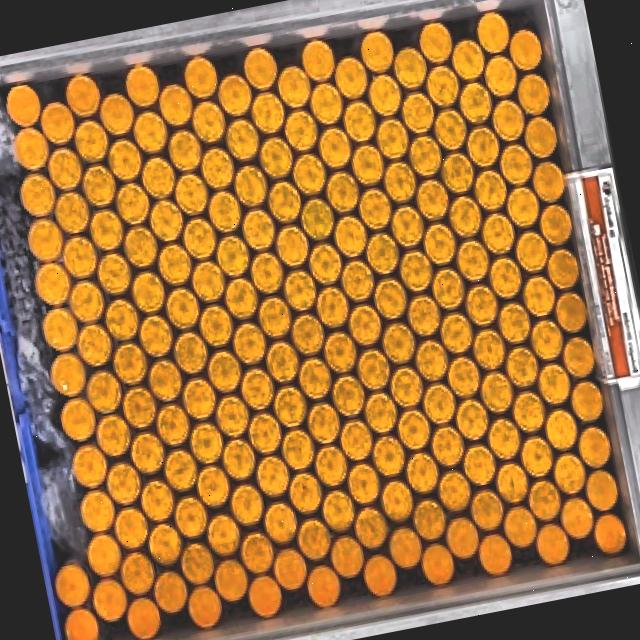vial: (55, 564, 91, 608), (187, 586, 223, 629), (217, 73, 252, 117), (113, 342, 148, 386), (40, 101, 75, 145), (14, 127, 49, 171), (48, 147, 83, 191), (87, 370, 122, 414), (61, 398, 96, 442), (65, 75, 101, 117), (6, 85, 42, 127), (301, 39, 336, 82), (243, 47, 278, 90), (199, 304, 234, 347), (125, 65, 160, 108), (141, 156, 176, 199), (100, 93, 135, 136), (108, 139, 143, 182), (156, 404, 191, 447), (74, 120, 109, 163), (82, 164, 117, 207), (122, 386, 157, 429), (20, 173, 55, 216), (63, 236, 98, 279), (28, 219, 63, 262), (69, 280, 104, 323), (43, 308, 78, 351), (51, 353, 86, 396), (96, 414, 131, 457), (354, 506, 389, 549), (120, 552, 155, 595), (127, 597, 162, 640), (87, 534, 122, 577), (93, 579, 128, 622), (318, 126, 352, 170), (301, 197, 335, 241), (73, 444, 107, 488), (292, 154, 327, 196), (133, 111, 168, 153), (139, 315, 174, 357), (97, 253, 132, 295), (55, 192, 90, 234), (36, 263, 71, 305), (593, 513, 628, 555), (478, 534, 513, 576), (148, 523, 183, 565), (80, 490, 115, 532), (476, 11, 510, 54), (484, 55, 518, 98), (515, 230, 549, 273), (426, 65, 460, 108), (394, 46, 428, 89), (284, 109, 318, 152), (226, 118, 260, 161), (242, 208, 276, 251), (184, 56, 218, 99), (208, 190, 242, 233), (159, 83, 193, 126), (168, 129, 202, 172), (175, 173, 209, 216), (183, 217, 217, 260), (208, 350, 242, 393), (166, 287, 200, 330), (124, 225, 158, 268), (131, 431, 165, 474), (578, 426, 612, 469), (585, 469, 619, 512), (512, 390, 546, 433), (322, 489, 356, 532), (289, 472, 323, 515), (297, 518, 331, 561), (264, 501, 298, 544), (214, 559, 248, 602), (164, 449, 198, 492), (174, 496, 208, 539), (141, 479, 175, 522), (154, 571, 188, 614), (107, 462, 141, 505), (149, 200, 184, 241), (114, 508, 149, 549), (509, 29, 543, 71), (532, 161, 566, 203), (539, 204, 573, 246), (506, 186, 540, 228), (522, 275, 556, 317), (530, 319, 564, 361), (466, 125, 500, 167), (474, 169, 508, 211), (481, 213, 515, 255), (419, 22, 453, 64), (456, 240, 490, 282), (480, 371, 514, 413), (401, 92, 435, 134), (447, 356, 481, 398), (422, 383, 456, 425), (351, 144, 385, 186), (382, 322, 416, 364), (390, 366, 424, 408), (310, 83, 344, 125), (326, 171, 360, 213), (341, 260, 375, 302), (348, 304, 382, 346), (309, 243, 343, 285), (251, 92, 285, 134), (268, 181, 302, 223), (307, 402, 341, 444), (234, 165, 268, 207), (273, 386, 307, 428), (192, 101, 226, 143), (201, 148, 235, 190), (216, 235, 250, 277), (233, 323, 267, 365), (248, 413, 282, 455), (174, 332, 208, 374), (132, 271, 166, 313), (90, 209, 124, 251), (78, 324, 112, 366), (560, 497, 594, 539), (520, 436, 554, 478), (528, 479, 562, 521), (470, 489, 504, 531), (431, 425, 465, 467), (397, 409, 431, 451), (364, 392, 398, 434), (330, 536, 364, 578), (307, 566, 341, 608), (256, 456, 290, 498), (230, 484, 264, 526), (248, 576, 282, 618), (452, 38, 485, 81), (489, 256, 522, 299), (400, 249, 433, 292), (335, 56, 368, 99), (359, 187, 392, 230), (278, 65, 311, 108), (299, 357, 332, 400), (266, 340, 299, 383), (183, 377, 216, 420), (149, 359, 182, 402), (538, 362, 571, 405), (413, 498, 446, 541), (389, 526, 422, 569), (274, 548, 307, 591), (197, 465, 230, 508), (517, 74, 551, 115), (368, 75, 402, 116), (241, 368, 275, 409), (216, 396, 250, 437), (158, 244, 192, 285), (116, 183, 150, 224), (105, 299, 139, 340), (405, 453, 439, 494), (421, 544, 455, 585), (347, 464, 381, 505), (363, 555, 397, 596), (222, 439, 256, 480), (207, 515, 241, 556), (524, 116, 557, 158), (547, 248, 580, 290), (555, 291, 588, 333), (492, 99, 525, 141), (500, 144, 533, 186), (459, 82, 492, 124), (498, 302, 531, 344), (506, 346, 539, 388), (434, 108, 467, 150), (441, 152, 474, 194), (465, 284, 498, 326), (473, 328, 506, 370), (432, 268, 465, 310), (440, 312, 473, 354), (361, 31, 394, 73), (384, 161, 417, 203), (391, 206, 424, 248), (415, 339, 448, 381), (343, 100, 376, 142), (366, 233, 399, 275), (334, 216, 367, 258), (316, 286, 349, 328), (324, 331, 357, 373), (332, 375, 365, 417), (260, 137, 293, 179), (291, 313, 324, 355), (251, 252, 284, 294), (259, 296, 292, 338), (225, 278, 258, 320), (190, 422, 223, 464), (571, 381, 604, 423), (545, 409, 578, 451), (553, 453, 586, 495), (537, 523, 570, 565), (488, 418, 521, 460), (504, 506, 537, 548), (463, 444, 496, 486), (446, 517, 479, 559), (372, 435, 405, 477), (340, 419, 373, 461), (241, 532, 274, 574), (181, 543, 214, 585), (407, 296, 441, 336), (449, 196, 482, 237), (409, 136, 442, 177), (416, 179, 449, 220), (423, 224, 456, 265), (376, 118, 409, 159), (374, 278, 407, 319), (357, 349, 390, 390), (276, 226, 309, 267), (192, 261, 225, 302), (496, 462, 529, 503), (456, 399, 489, 440), (438, 470, 471, 511), (381, 481, 414, 522), (315, 446, 348, 487), (282, 429, 315, 470), (563, 337, 595, 378), (284, 269, 316, 310), (64, 609, 100, 640)
